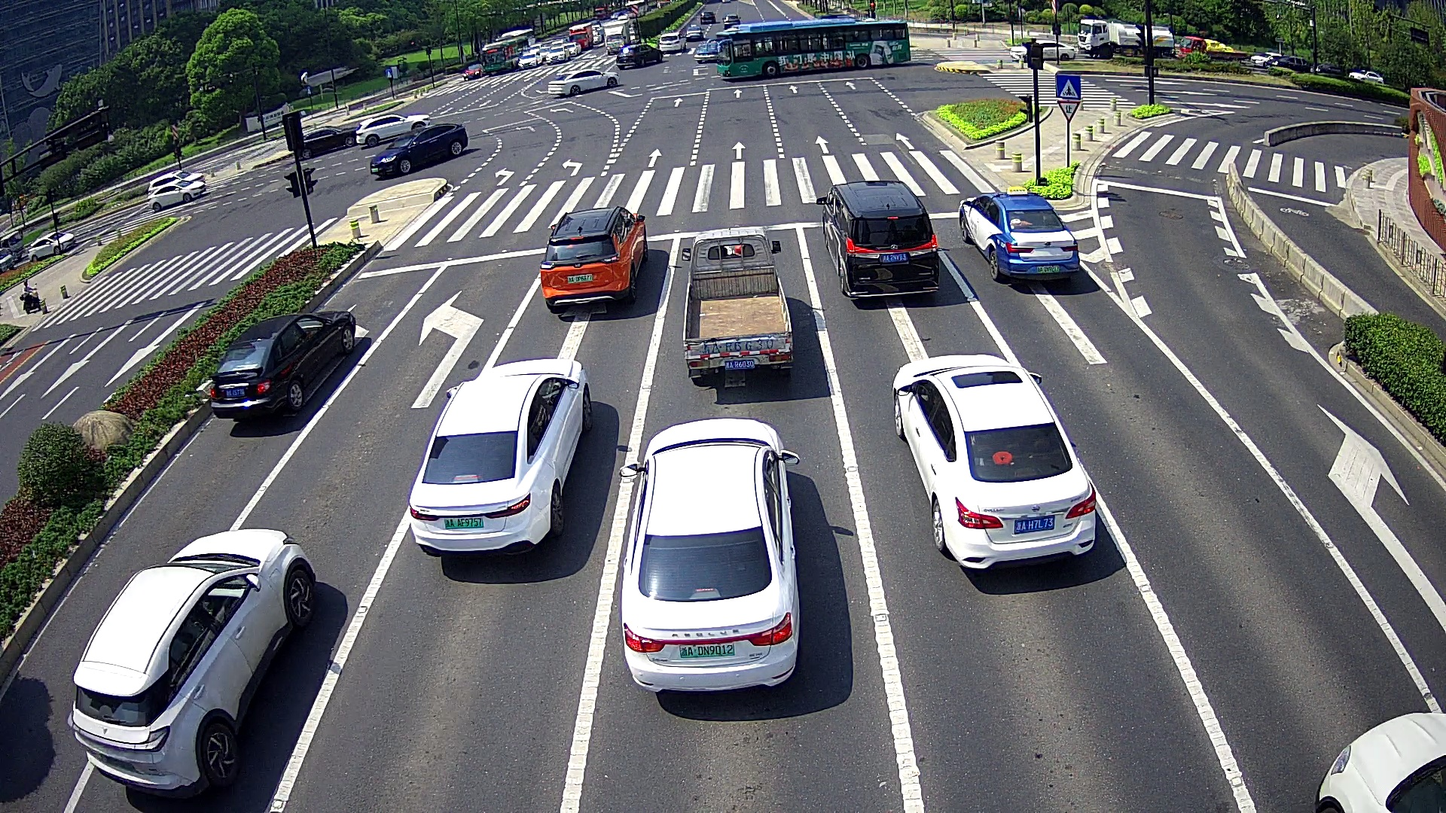vehicle: (63, 524, 319, 795), (617, 415, 805, 698), (882, 347, 1099, 571), (404, 353, 595, 561), (677, 222, 796, 389), (197, 307, 358, 420), (815, 177, 941, 298), (956, 183, 1083, 285), (712, 17, 914, 81), (538, 206, 649, 315), (368, 120, 466, 181), (545, 64, 619, 101), (148, 178, 203, 206)
